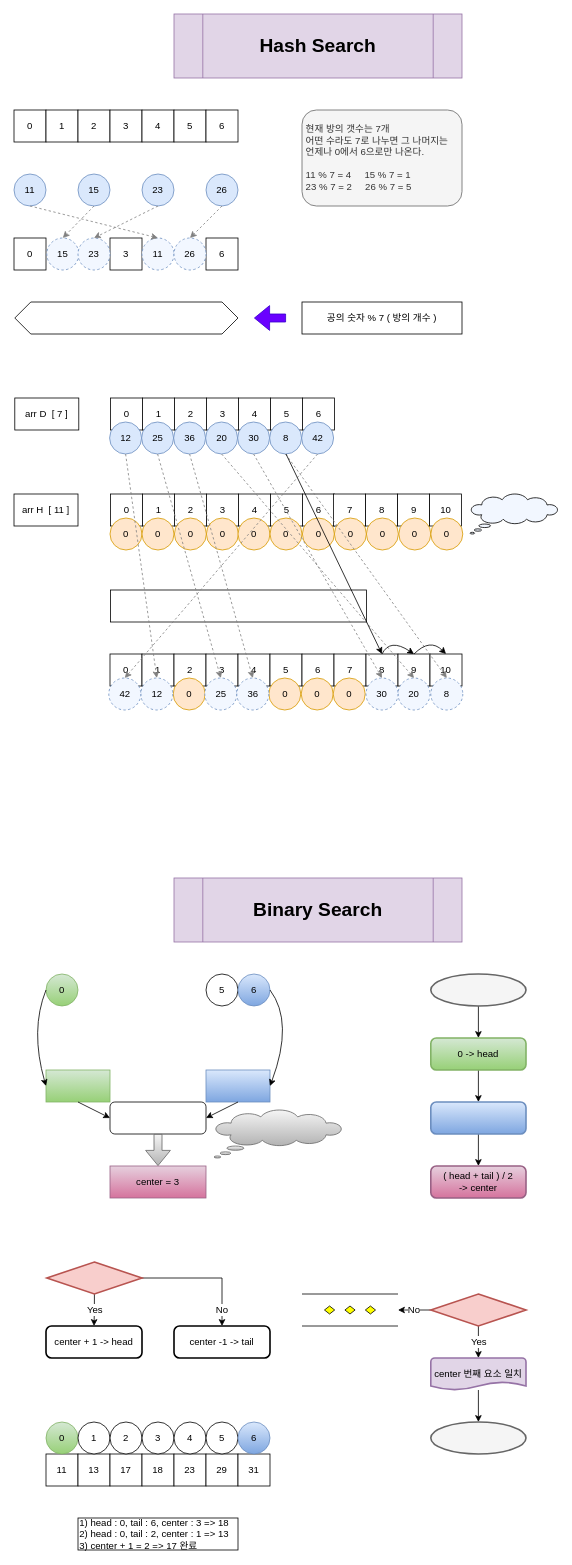
The diagram is 572 pixels wide and 1565 high, and some of its shapes have lost their labels. Here are the shapes that lost their labels. From the top down, the centre of each, then its label:
point 126,317: 공을 넣은 칸의 번호
point 513,513: 0으로 초기화
point 238,605: 해시 함수 : 공의 숫자 % 11 ( 방의 개수 )
point 478,989: start
point 77,1085: head
point 237,1085: tail
point 157,1117: ( head + tail ) / 2
point 277,1133: 가운데 요소의 첨자를 평균을 계산하여 알아낸다.
point 478,1117: 6 -> tail
point 94,1277: arr [ center ] < 17
point 478,1309: arr [ center ] = 17
point 478,1437: end
